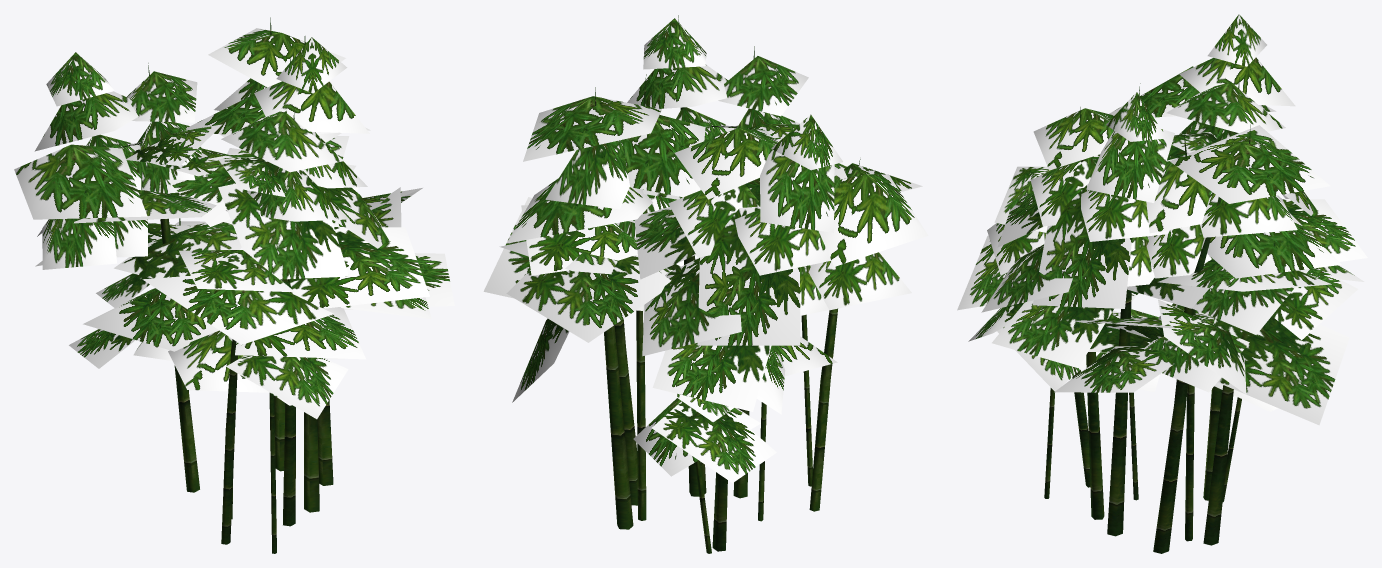
The model's file is zhuzi.FBX.
The picture shows the model from 3 angles, left to right: view 1: azimuth 30°, elevation 25°; view 2: azimuth 150°, elevation 25°; view 3: azimuth 270°, elevation 25°; orthographic projection. The views are drawn at different scales.
Visible parts, largest first — view 1: zhuzi; view 2: zhuzi; view 3: zhuzi.
Part boxes in pixels (x1,y1,x2,y2): zhuzi: (14, 17, 454, 553); zhuzi: (483, 15, 928, 553); zhuzi: (957, 14, 1367, 553).
Size of the model in its own units: 285 by 325 by 268.
Materials: 1 (1 with a texture image).
